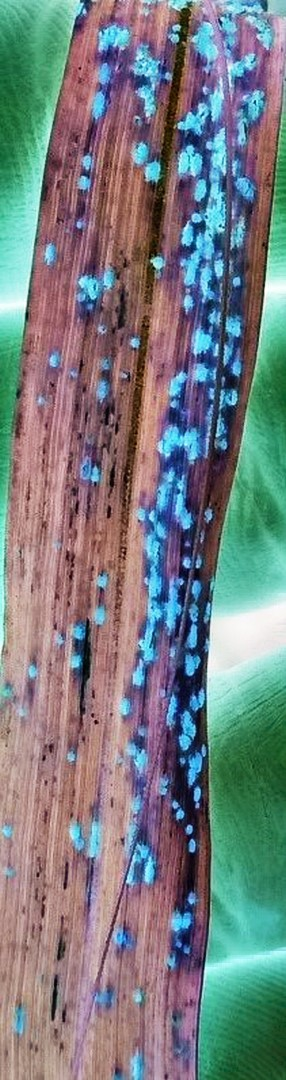Leaf Rust: (13, 27, 286, 941)
